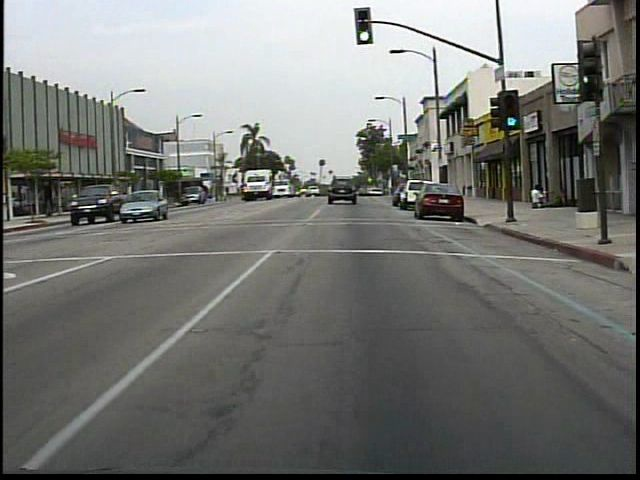person: (526, 182, 544, 210)
